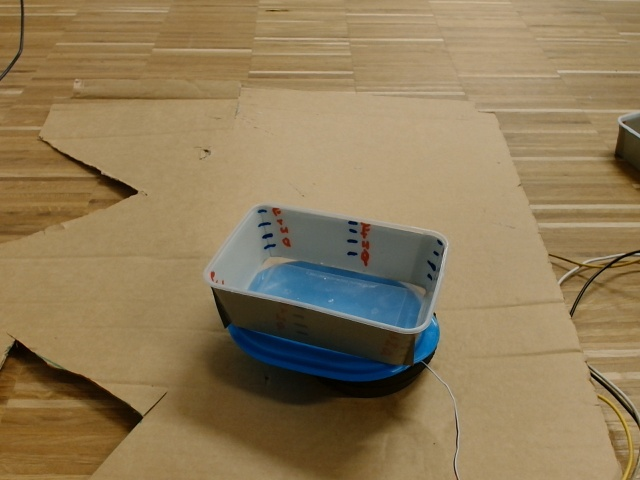Small_zero: (204, 201, 449, 340)
